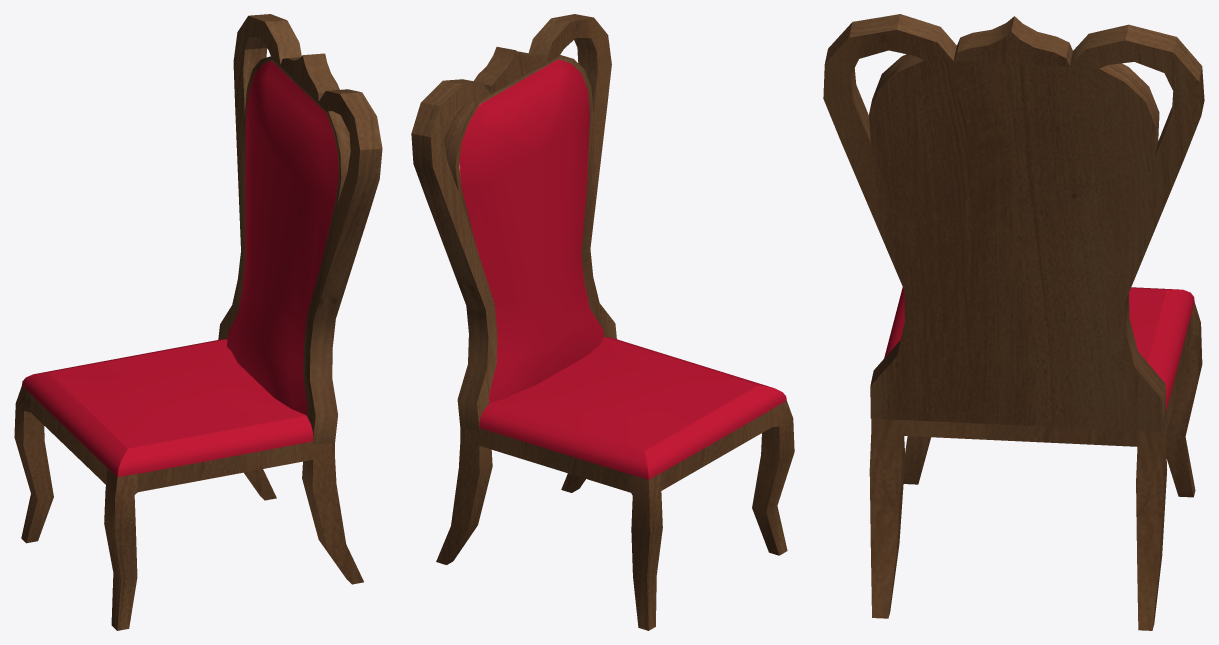
Rendered from Chair.fbx.
The picture shows the model from 3 angles, left to right: view 1: azimuth 30°, elevation 25°; view 2: azimuth 150°, elevation 25°; view 3: azimuth 270°, elevation 25°; orthographic projection. The views are drawn at different scales.
Visible parts, largest first — view 1: M_Chair6_MedievalDiningRoom_FinalScene2:blinn3_0; view 2: M_Chair6_MedievalDiningRoom_FinalScene2:blinn3_0; view 3: M_Chair6_MedievalDiningRoom_FinalScene2:blinn3_0.
Part boxes in pixels (x1=…): M_Chair6_MedievalDiningRoom_FinalScene2:blinn3_0: x1=14, y1=14, x2=382, y2=630; M_Chair6_MedievalDiningRoom_FinalScene2:blinn3_0: x1=411, y1=14, x2=794, y2=630; M_Chair6_MedievalDiningRoom_FinalScene2:blinn3_0: x1=823, y1=14, x2=1204, y2=630.
Size of the model in its own units: 20.18 by 34.96 by 20.12.
Materials: 1 (1 with a texture image).
